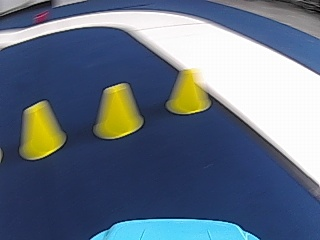cone: (19, 100, 65, 160), (94, 83, 143, 139), (165, 66, 210, 115)
